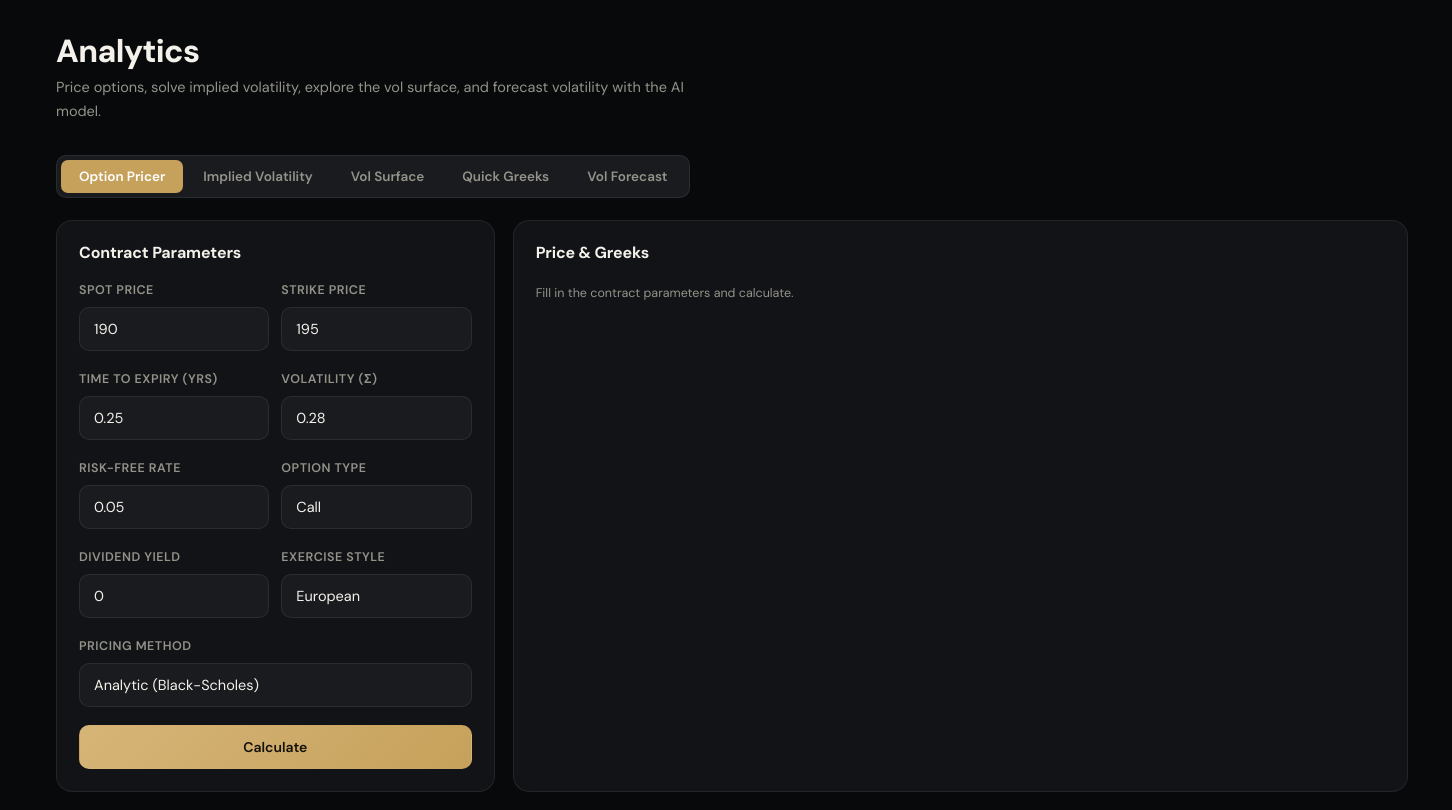
Test case: tabs › switches to Quick Greeks
This screenshot has width=1452, height=810.
Click the button "Quick Greeks" at [506, 176], box [444, 160, 567, 193]
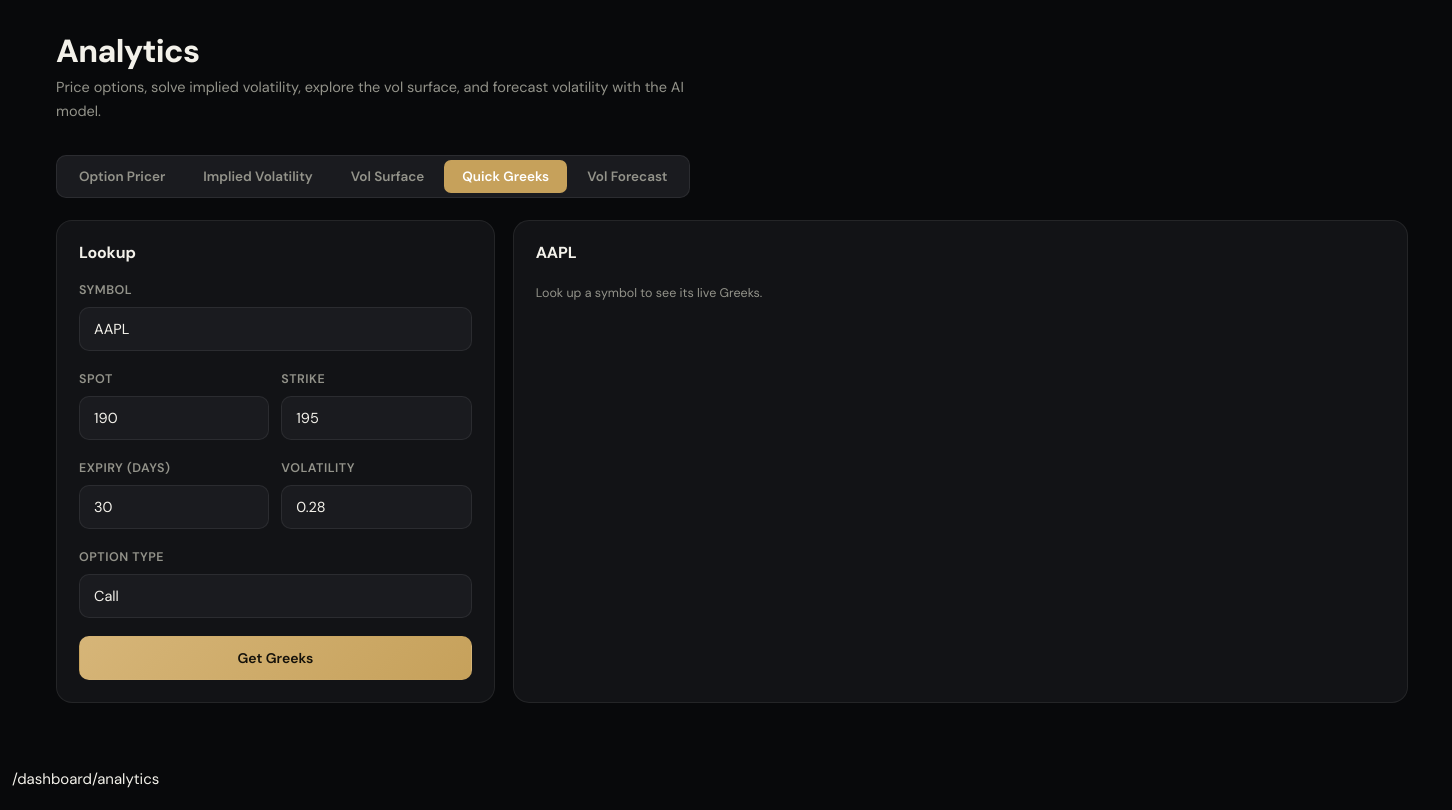
expect the heading "Lookup" is shown: met, box [79, 243, 136, 262]
